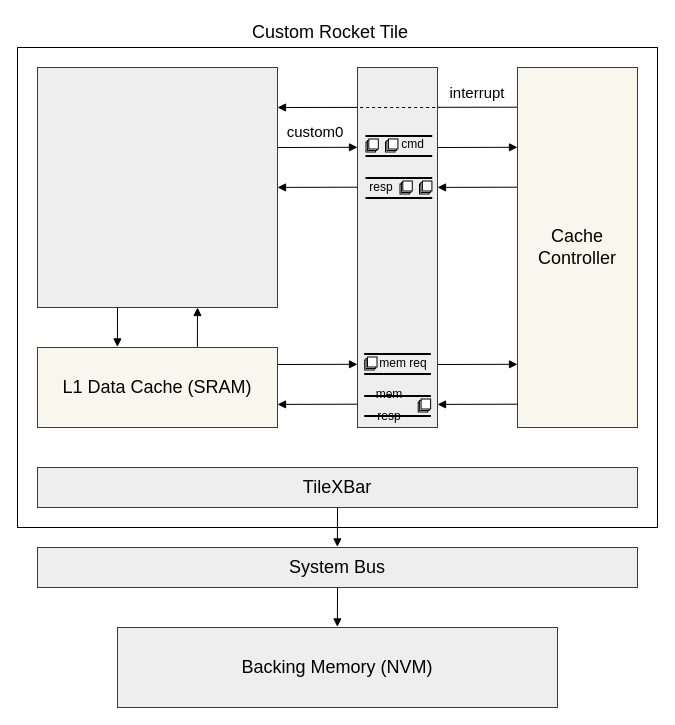
This 675x725 diagram has some shape labels left out. Each missing label, with the box of its shape:
RoCC Interface: (356, 66, 438, 428)
Tiny Rocket Core (32 bit single core): (36, 66, 278, 308)
